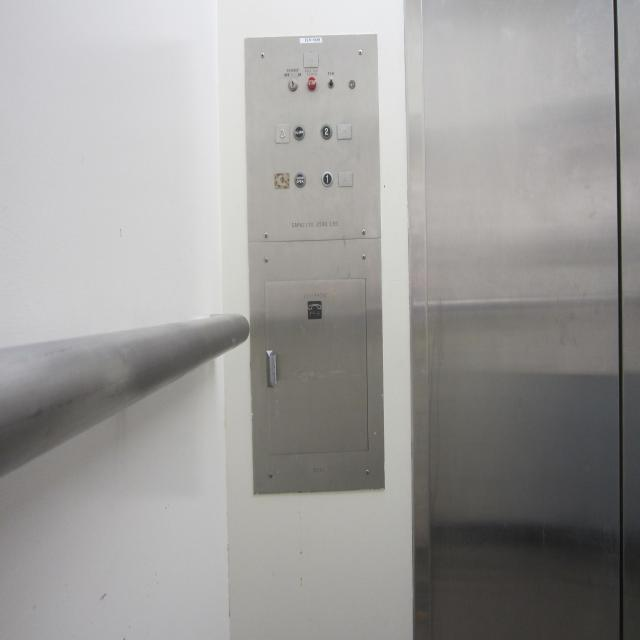1: (322, 172, 332, 186)
2: (320, 124, 332, 139)
alarm: (274, 123, 290, 144)
keyhole: (287, 77, 298, 92)
switch: (327, 76, 334, 90)
text: (292, 125, 305, 140), (294, 172, 306, 187)
text_stop: (306, 76, 317, 90)
